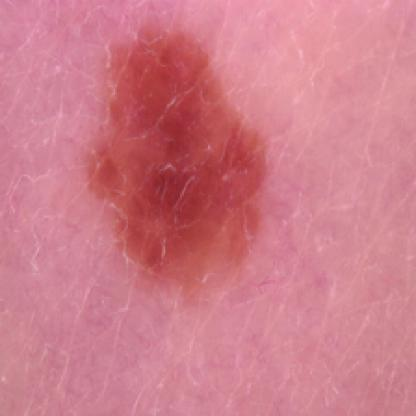benign: (98, 34, 286, 304)
